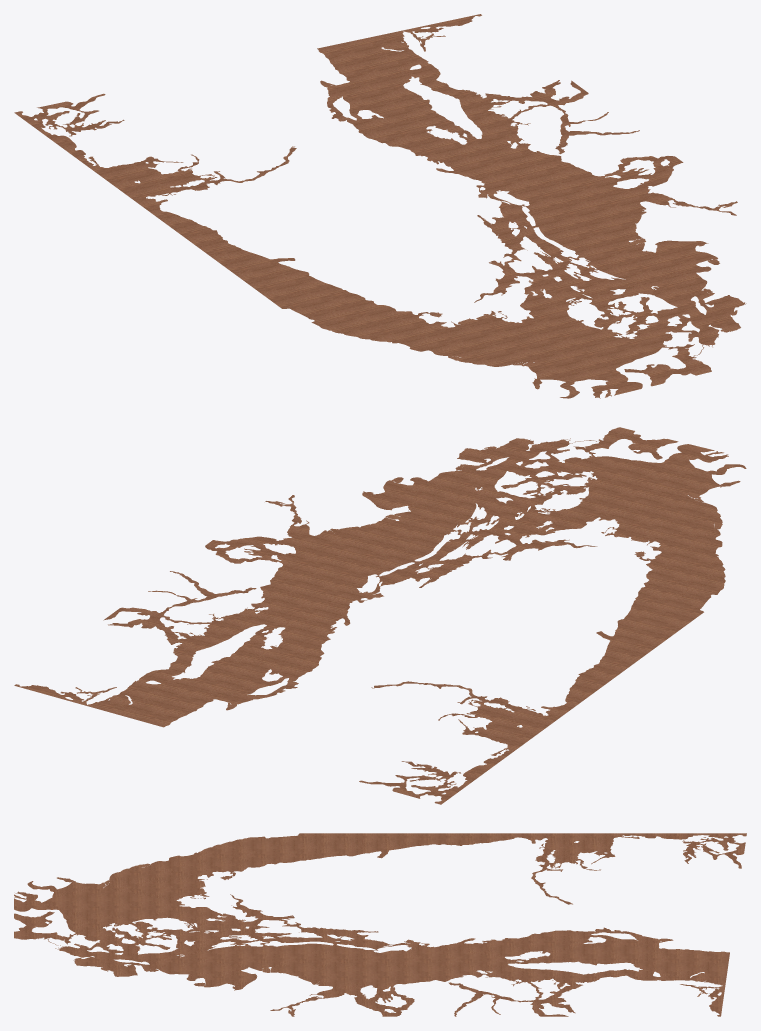
The model's file is OUTFITTING_INTERIOR__galley, workbench, shelving, etc.__CTR BEAM TABLE__inlay map__inlay map water.glb.
The picture shows the model from 3 angles, top to bottom: view 1: azimuth 30°, elevation 25°; view 2: azimuth 150°, elevation 25°; view 3: azimuth 270°, elevation 25°; orthographic projection. The views are drawn at different scales.
Visible parts, largest first — view 1: inlay map water; view 2: inlay map water; view 3: inlay map water.
Boxes of the visible parts, x1,y1,x2,y2 form: inlay map water: (14,14,746,398); inlay map water: (14,427,746,804); inlay map water: (14,833,746,1016).
Bounding box in the file's own units: 1.05 × 0 × 1.77.
1 material, 1 textured.
